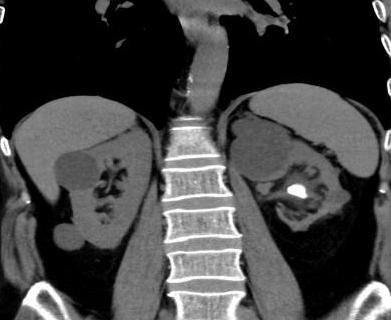Tas_Var: (286, 182, 310, 202)
